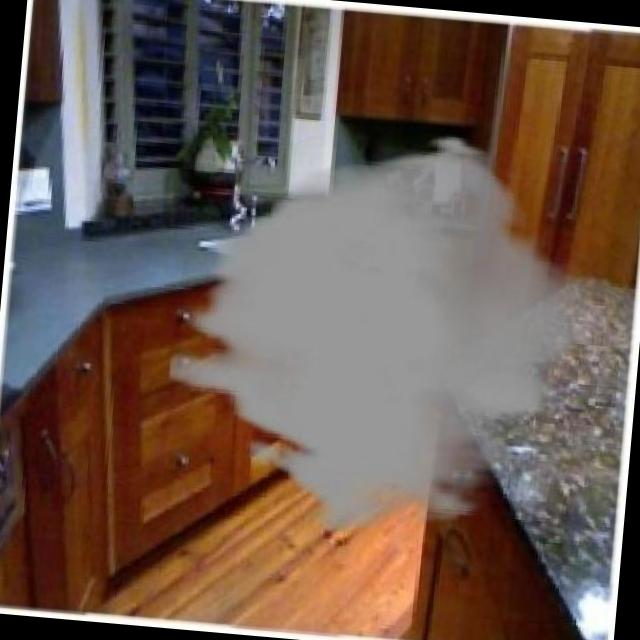Smoke: (162, 105, 614, 558)
